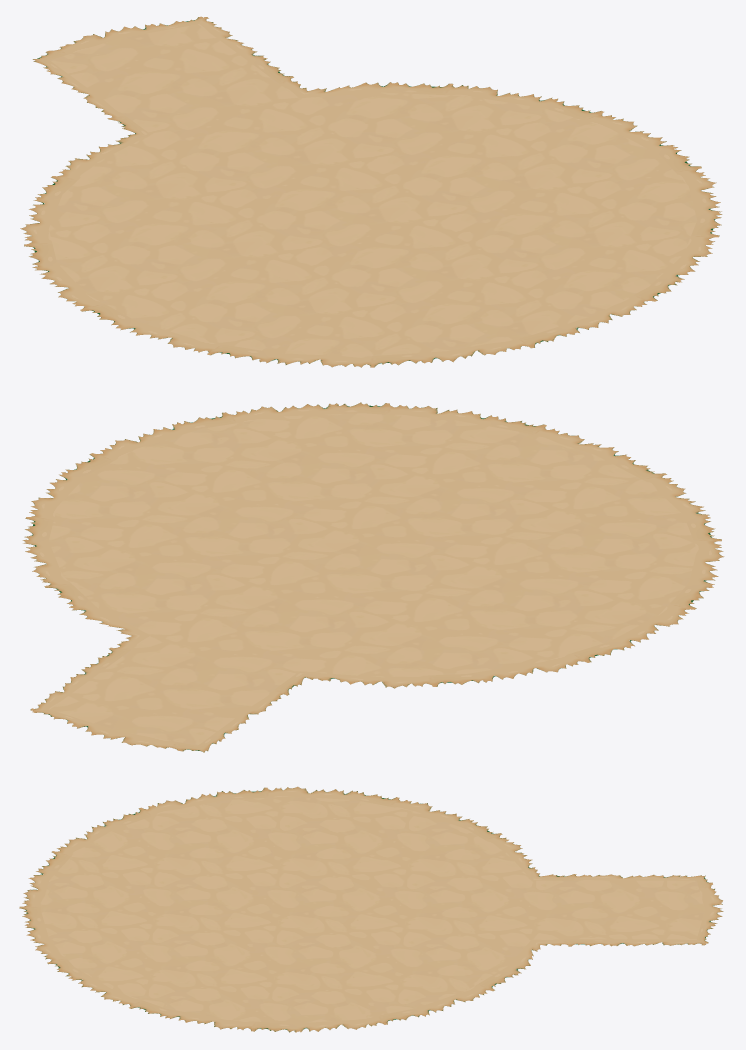
File: statue tile.fbx
3 renders of one model, top to bottom at view 1: azimuth 30°, elevation 25°; view 2: azimuth 150°, elevation 25°; view 3: azimuth 270°, elevation 25°, orthographic. The views are drawn at different scales.
Parts seen in each view (by area): view 1: pDisc6; view 2: pDisc6; view 3: pDisc6.
Boxes of the visible parts, x1=… form: pDisc6: x1=20, y1=16, x2=722, y2=367; pDisc6: x1=22, y1=402, x2=724, y2=752; pDisc6: x1=19, y1=786, x2=723, y2=1032.
Size of the model in its own units: 2.21 by 0 by 2.67.
